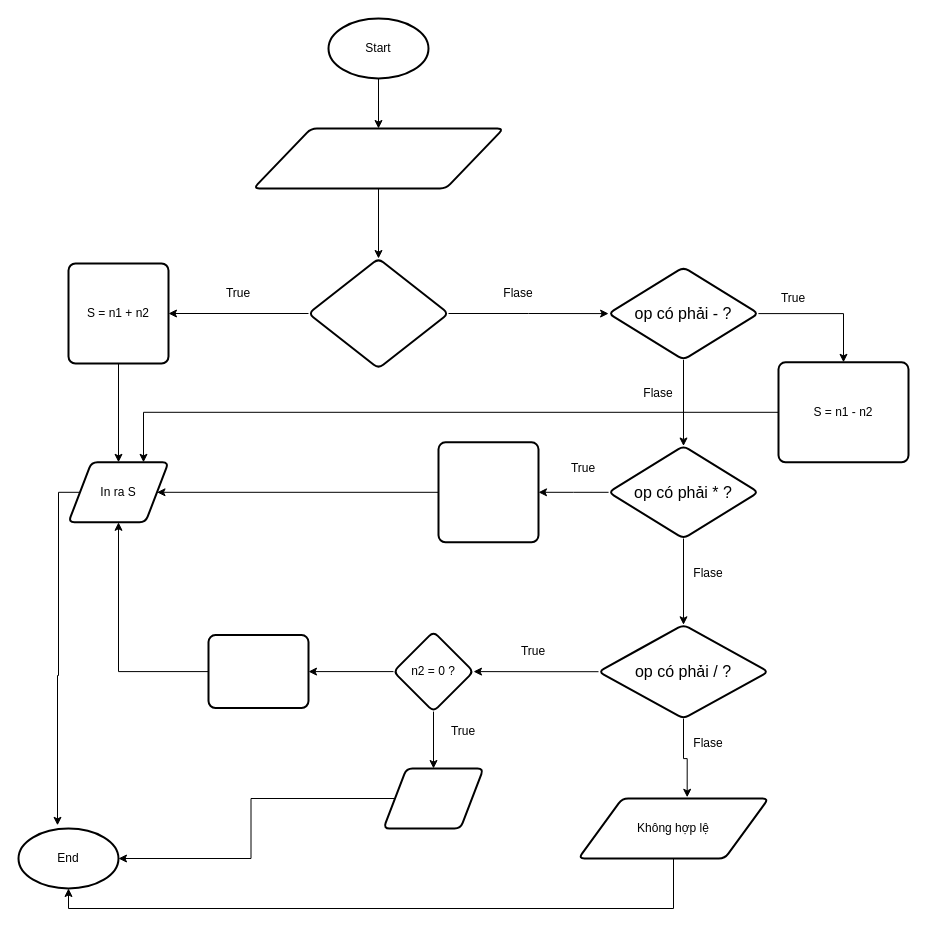
Some shapes in this 926 by 934 pixel diagram are drawn without their labels. Here are the shapes that lost their labels. From the top down, the centre of each, then its label:
[378,158]: Nhập n1 n2 và phép tính op
[378,313]: op có phải + ?
[488,492]: S = n1 * n2
[258,671]: S = n1 / n2
[433,798]: Lỗi chia 0
